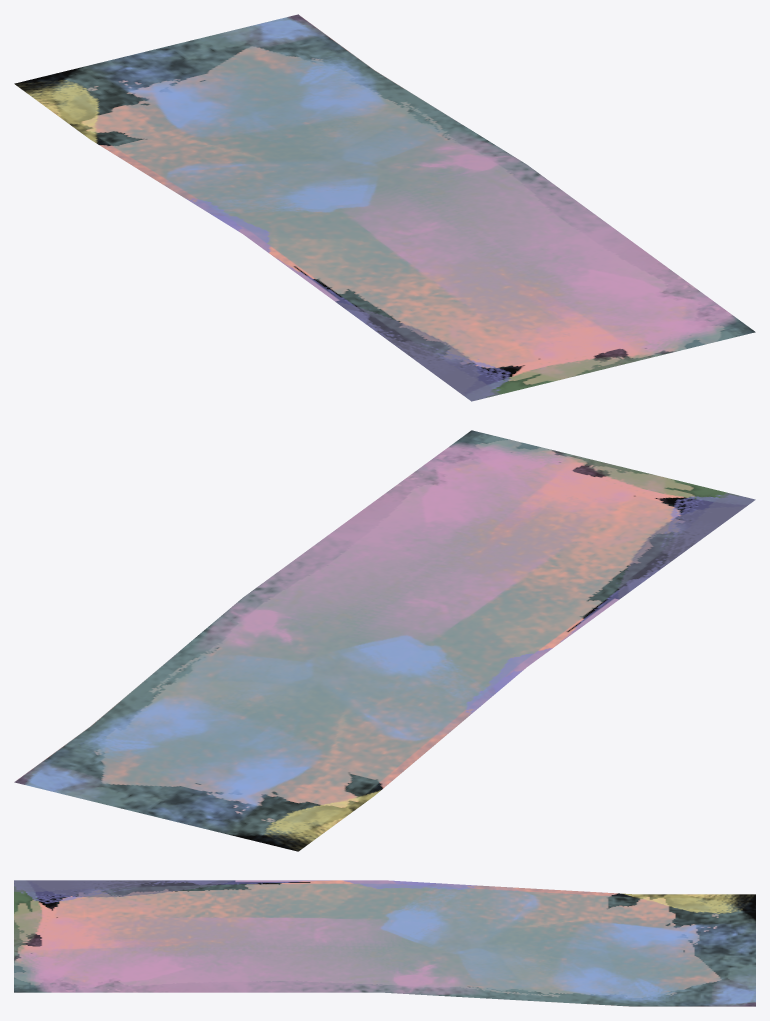
Rendered from S_BrushStroke_MultiBlue.fbx.
The picture shows the model from 3 angles, top to bottom: view 1: azimuth 30°, elevation 25°; view 2: azimuth 150°, elevation 25°; view 3: azimuth 270°, elevation 25°; orthographic projection. The views are drawn at different scales.
Visible parts, largest first — view 1: S_BrushStroke_MultiBlue; view 2: S_BrushStroke_MultiBlue; view 3: S_BrushStroke_MultiBlue.
Part boxes in pixels (x1,y1,x2,y2): S_BrushStroke_MultiBlue: (14, 14, 755, 401); S_BrushStroke_MultiBlue: (14, 430, 755, 851); S_BrushStroke_MultiBlue: (14, 880, 755, 1006).
Bounding box in the file's own units: 0.9253 × 0.0533 × 2.58.
